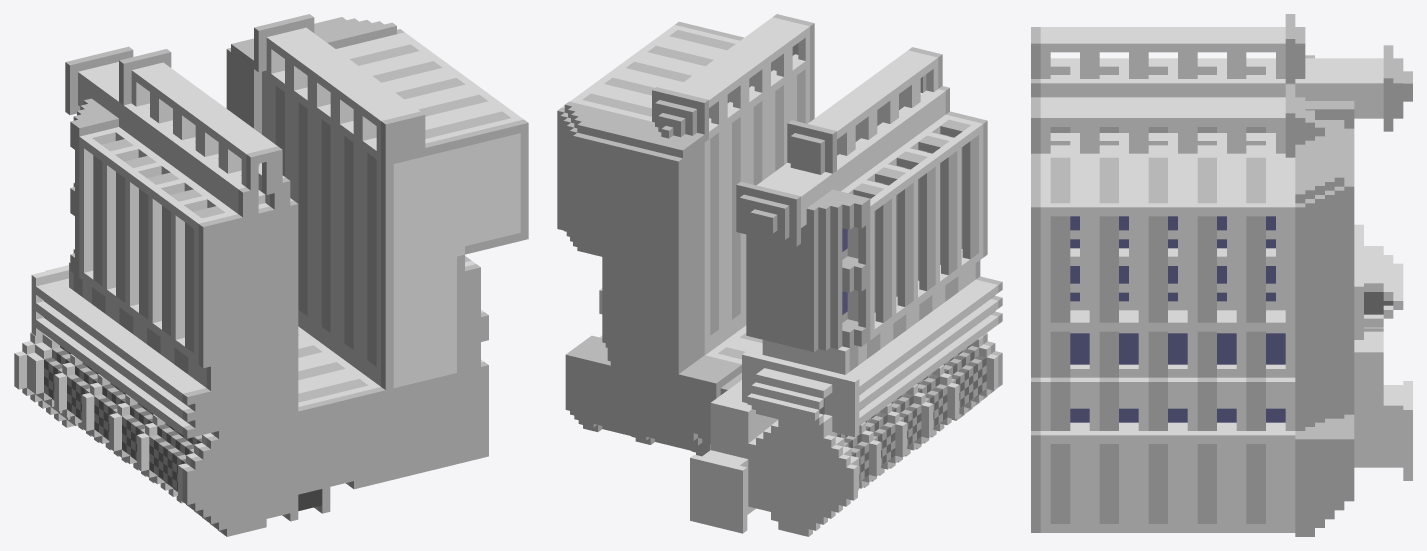
Rendered from yoshida2.fbx.
3 renders of one model, left to right at view 1: azimuth 30°, elevation 25°; view 2: azimuth 150°, elevation 25°; view 3: azimuth 270°, elevation 25°, orthographic. The views are drawn at different scales.
Visible parts, largest first — view 1: Default; view 2: Default; view 3: Default.
Part boxes in pixels (x1,y1,x2,y2): Default: [14, 14, 528, 536]; Default: [557, 14, 1002, 536]; Default: [1031, 14, 1412, 536].
Bounding box in the file's own units: 44 × 47 × 39.
1 material, 1 textured.
